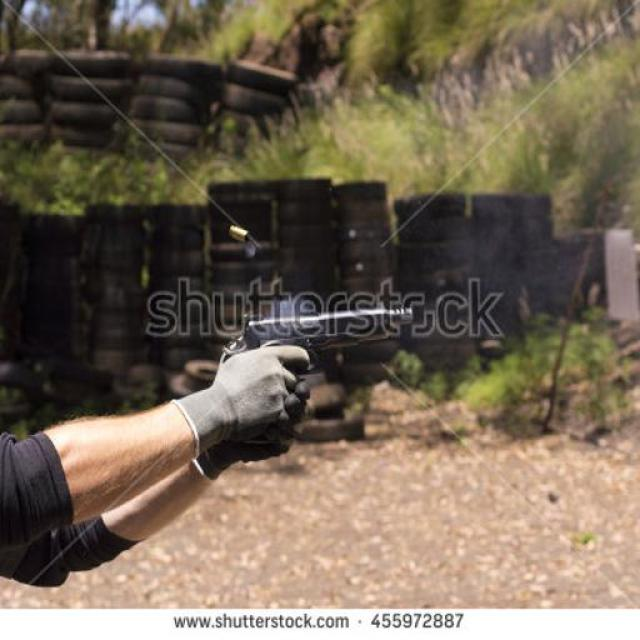pistol: (233, 304, 411, 445)
